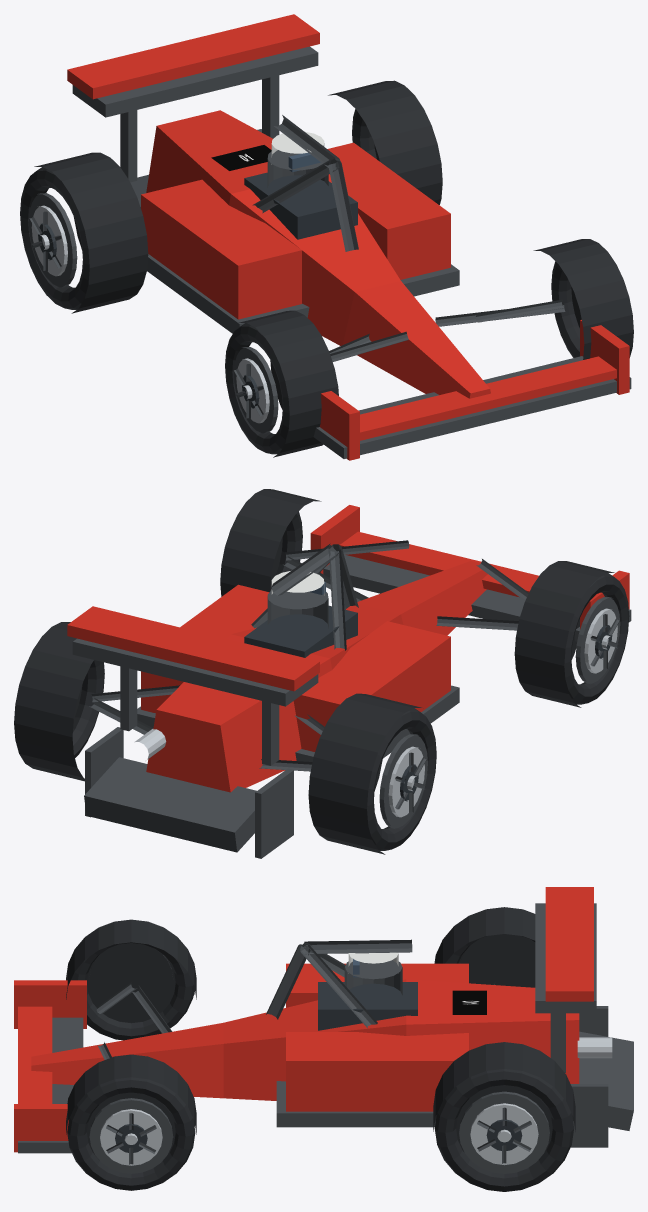
The model's file is car-race.glb.
3 views of the same model, one above another, from view 1: azimuth 30°, elevation 25°; view 2: azimuth 150°, elevation 25°; view 3: azimuth 270°, elevation 25° (orthographic). The views are drawn at different scales.
Visible parts, largest first — view 1: body-detail, wheel-back-left, wheel-front-left, wheel-back-right, wheel-front-right; view 2: body-detail, wheel-back-left, wheel-front-left, wheel-back-right, wheel-front-right; view 3: body-detail, wheel-back-right, wheel-front-right, wheel-front-left, wheel-back-left.
Boxes of the visible parts, x1,y1,x2,y2 form: body-detail: [67, 14, 631, 460]; wheel-back-left: [20, 152, 148, 313]; wheel-front-left: [225, 310, 338, 457]; wheel-back-right: [328, 80, 442, 204]; wheel-front-right: [533, 239, 633, 359]; body-detail: [67, 505, 631, 858]; wheel-back-left: [308, 693, 436, 854]; wheel-front-left: [514, 561, 629, 707]; wheel-back-right: [14, 622, 104, 781]; wheel-front-right: [220, 489, 321, 596]; body-detail: [14, 887, 633, 1153]; wheel-back-right: [433, 1042, 575, 1191]; wheel-front-right: [66, 1054, 196, 1190]; wheel-front-left: [66, 919, 196, 1040]; wheel-back-left: [434, 907, 535, 987].
Size of the model in its own units: 2.11 by 1.02 by 3.22.
Materials: 8 (1 with a texture image).
